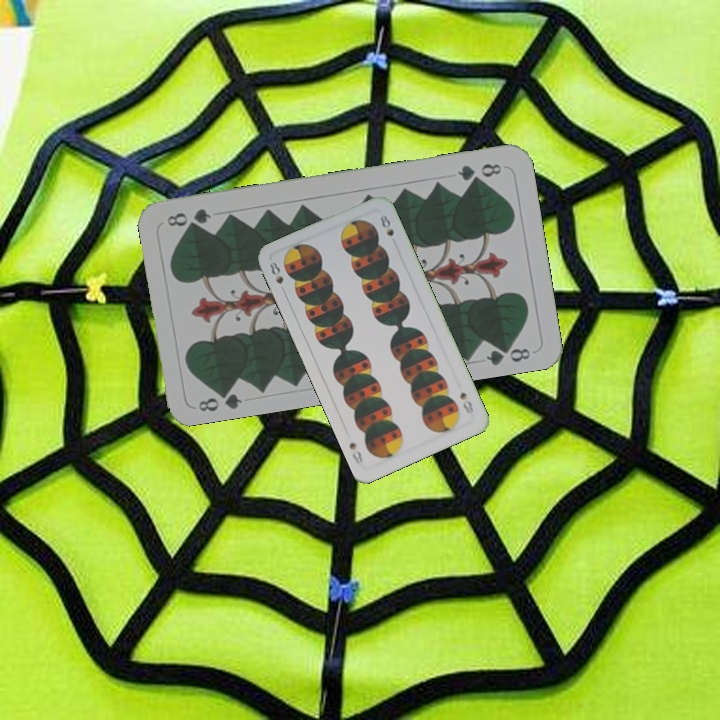G8: (194, 383, 245, 414), (453, 159, 504, 184)
S8: (264, 258, 286, 286), (456, 388, 476, 416)
